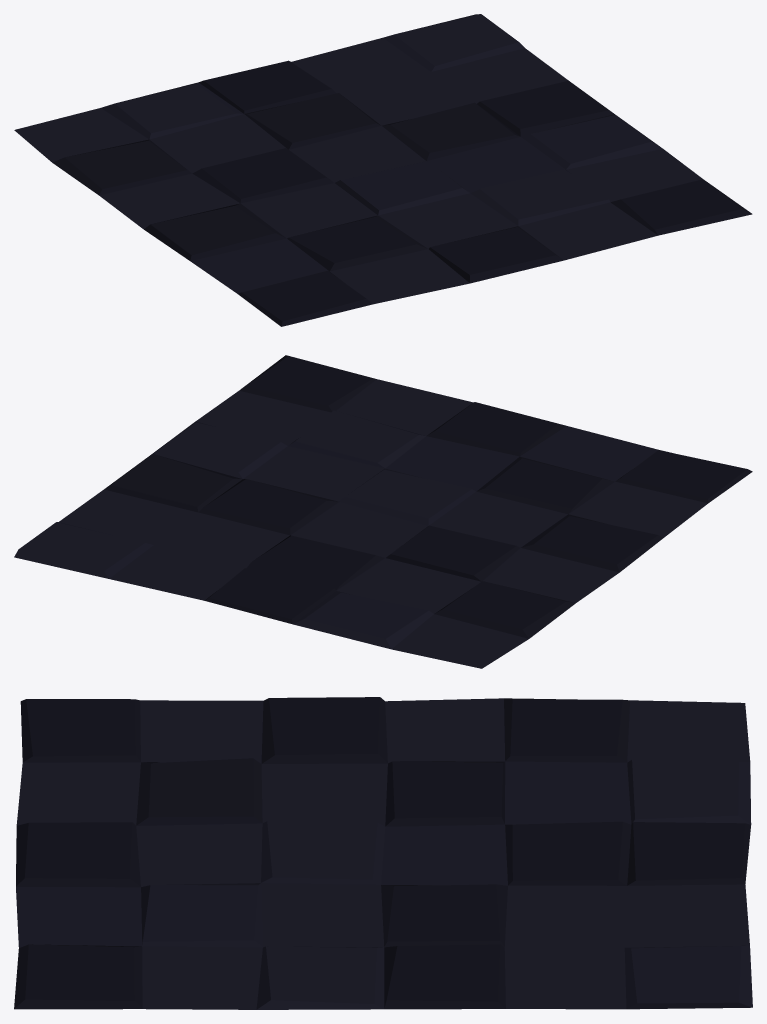
File: floor 1.fbx
The picture shows the model from 3 angles, top to bottom: view 1: azimuth 30°, elevation 25°; view 2: azimuth 150°, elevation 25°; view 3: azimuth 270°, elevation 25°; orthographic projection. The views are drawn at different scales.
Parts seen in each view (by area): view 1: floor 1; view 2: floor 1; view 3: floor 1.
Part boxes in pixels (left/top/right/bottom): floor 1: left=14, top=14, right=752, bottom=326; floor 1: left=14, top=355, right=752, bottom=668; floor 1: left=14, top=697, right=752, bottom=1009.
Size of the model in its own units: 604 by 6.79 by 609.
Materials: 1 (1 with a texture image).
